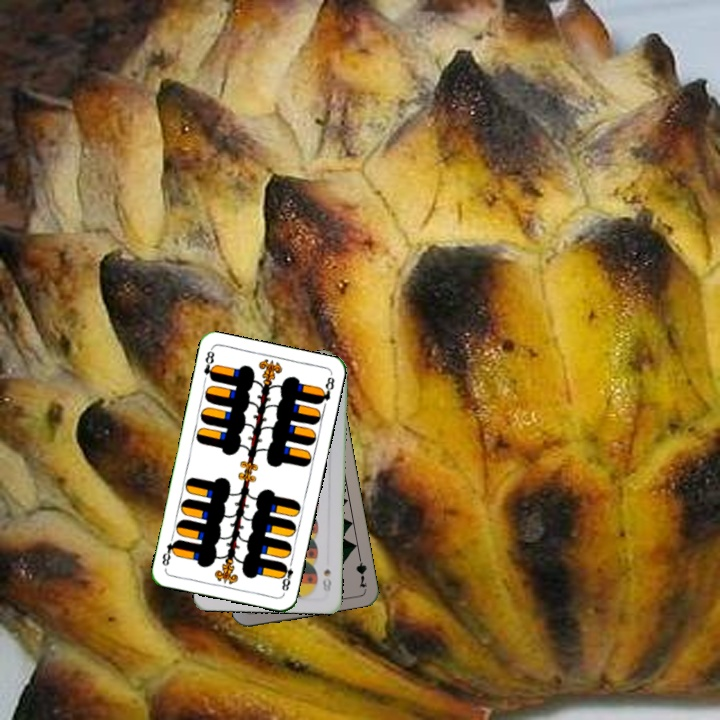E8: (200, 346, 219, 384), (277, 556, 296, 593)
G7: (352, 550, 369, 590)
S8: (318, 565, 334, 595)
